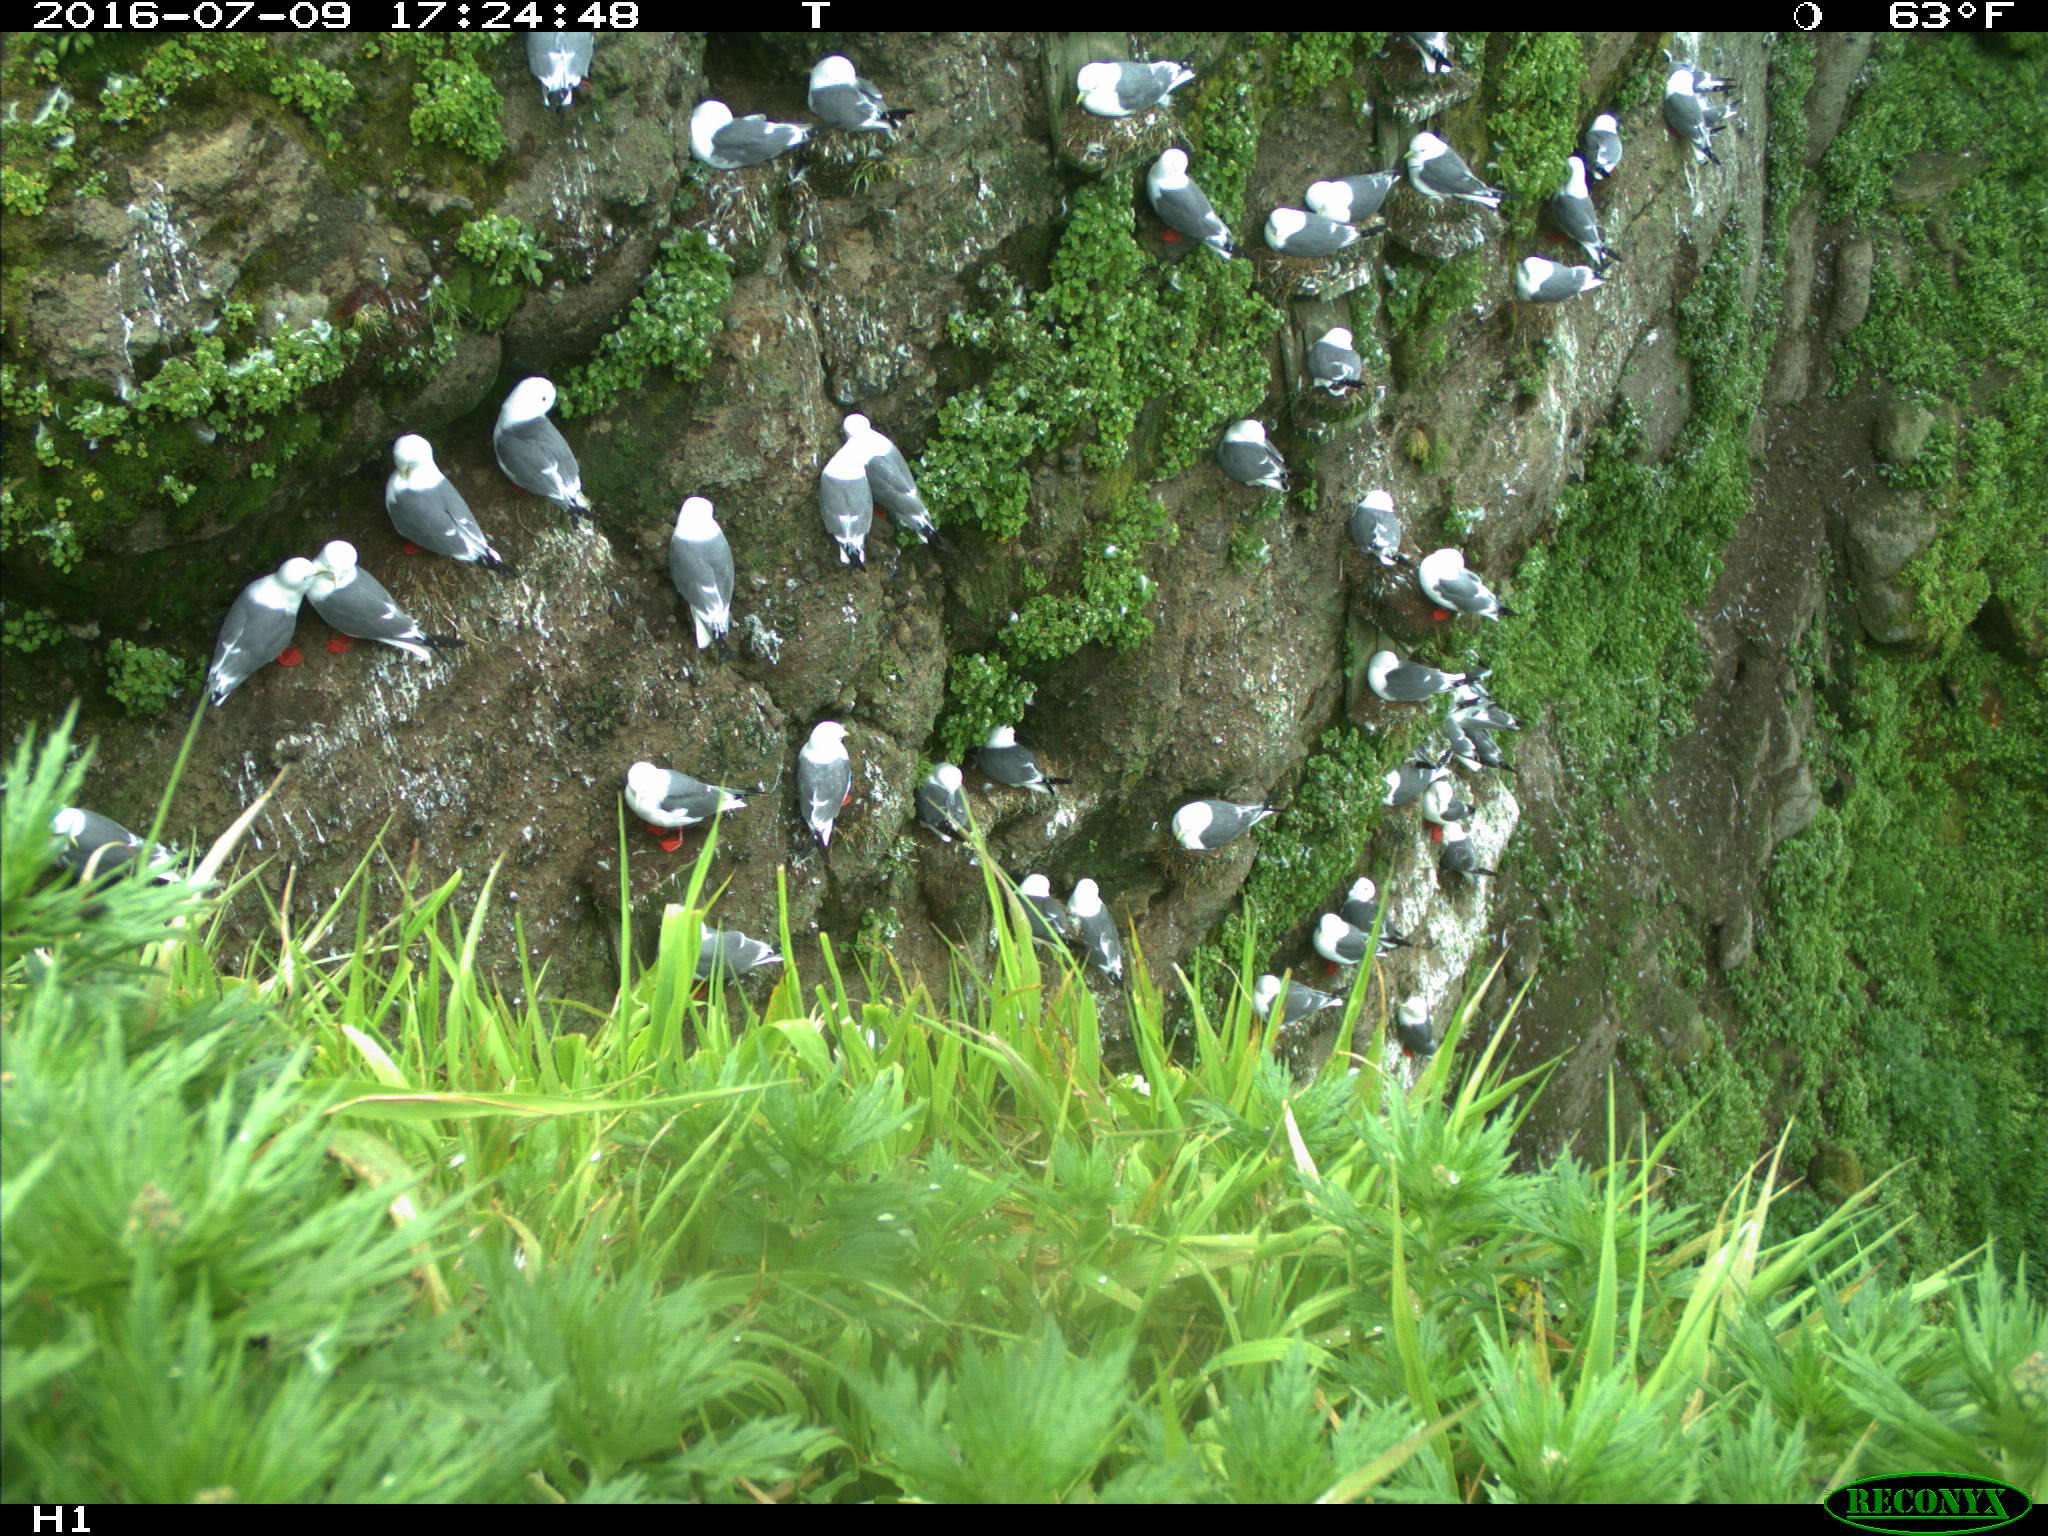Kittiwake: (277, 508, 464, 694), (640, 471, 779, 645), (361, 429, 527, 571), (482, 363, 635, 502), (198, 524, 321, 695), (631, 876, 790, 1007), (851, 360, 955, 561), (598, 728, 769, 845), (658, 86, 837, 195), (776, 700, 922, 821), (1200, 390, 1314, 516), (1287, 316, 1416, 424), (1314, 466, 1434, 579), (1385, 129, 1529, 223), (1127, 140, 1234, 266), (1224, 942, 1334, 1063), (1153, 768, 1276, 876), (1069, 37, 1213, 124), (1055, 858, 1138, 1005), (1309, 131, 1400, 266), (813, 402, 880, 576), (997, 837, 1076, 983), (1646, 69, 1742, 182), (1500, 245, 1621, 332), (813, 40, 897, 160), (505, 18, 614, 108), (1251, 182, 1338, 294), (1592, 94, 1687, 195), (1408, 528, 1484, 650), (908, 745, 985, 863), (1337, 876, 1435, 968), (1395, 762, 1496, 847), (1351, 626, 1437, 728), (976, 694, 1051, 808), (1293, 900, 1387, 975), (1543, 160, 1596, 286), (1563, 100, 1613, 208)
